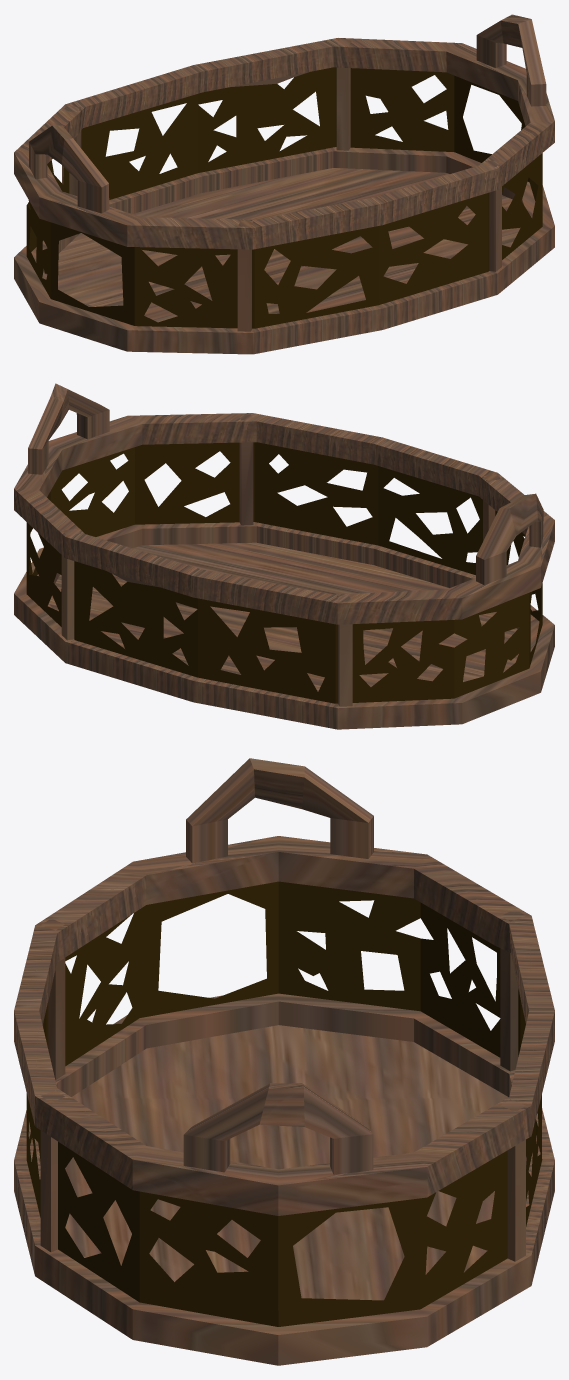
Rendered from CrabPot.glb.
3 views of the same model, one above another, from view 1: azimuth 30°, elevation 25°; view 2: azimuth 150°, elevation 25°; view 3: azimuth 270°, elevation 25° (orthographic). The views are drawn at different scales.
Visible parts, largest first — view 1: Cube; view 2: Cube; view 3: Cube.
Part boxes in pixels (x1,y1,x2,y2): Cube: [14, 14, 554, 354]; Cube: [14, 383, 554, 729]; Cube: [14, 758, 554, 1365].
Size of the model in its own units: 0.7302 by 0.2615 by 0.4776.
Materials: 2 (1 with a texture image).
